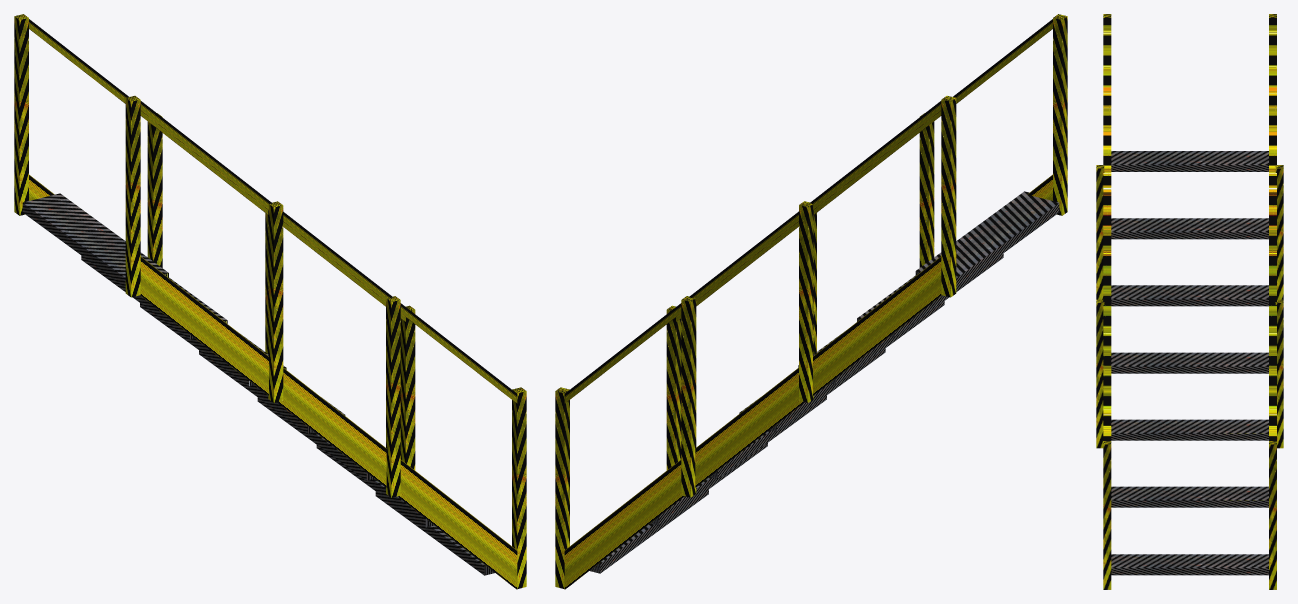
Rendered from stairs02.FBX.
3 views of the same model, side by side, from view 1: azimuth 30°, elevation 25°; view 2: azimuth 150°, elevation 25°; view 3: azimuth 270°, elevation 25° (orthographic). The views are drawn at different scales.
Visible parts, largest first — view 1: Box003, Box011, Box002, Box005, Box012, Box013, Box019, Box004, Box015, Box018, Box016, Box001 (+5 smaller); view 2: Box014, Box011, Box015, Box019, Box017, Box016, Box005, Box018, Box002, Box004, Box012, Box001 (+5 smaller); view 3: Box002, Box001, Box006, Box007, Box008, Box009, Box010, Box015, Box011, Box004, Box013, Box018 (+3 smaller).
Boxes of the visible parts, box(x1,y1,x2,y2) form: Box003: box(140, 256, 517, 589); Box011: box(22, 193, 168, 287); Box002: box(140, 101, 517, 403); Box005: box(125, 95, 140, 297); Box012: box(268, 201, 283, 402); Box013: box(386, 296, 400, 497); Box019: box(14, 14, 28, 215); Box004: box(512, 387, 526, 588); Box015: box(29, 19, 405, 321); Box018: box(400, 305, 415, 470); Box016: box(147, 113, 162, 267); Box001: box(375, 491, 494, 575); Box014: box(564, 256, 941, 589); Box011: box(915, 191, 1059, 287); Box015: box(564, 101, 941, 403); Box019: box(941, 95, 956, 297); Box017: box(681, 296, 696, 497); Box016: box(799, 201, 813, 402); Box005: box(1053, 14, 1067, 215); Box018: box(555, 387, 569, 588); Box002: box(676, 19, 1052, 321); Box004: box(666, 305, 681, 470); Box012: box(919, 113, 934, 267); Box001: box(589, 489, 708, 573); Box002: box(1103, 18, 1111, 440); Box001: box(1111, 554, 1268, 575); Box006: box(1111, 486, 1268, 507); Box007: box(1111, 419, 1268, 440); Box008: box(1111, 352, 1268, 373); Box009: box(1111, 285, 1268, 306); Box010: box(1111, 218, 1268, 239); Box015: box(1269, 18, 1276, 440); Box011: box(1111, 151, 1268, 171); Box004: box(1103, 441, 1111, 589); Box013: box(1096, 299, 1104, 448); Box018: box(1269, 441, 1276, 589).
Size of the model in its own units: 269 by 378 by 148.
Materials: 1 (1 with a texture image).
